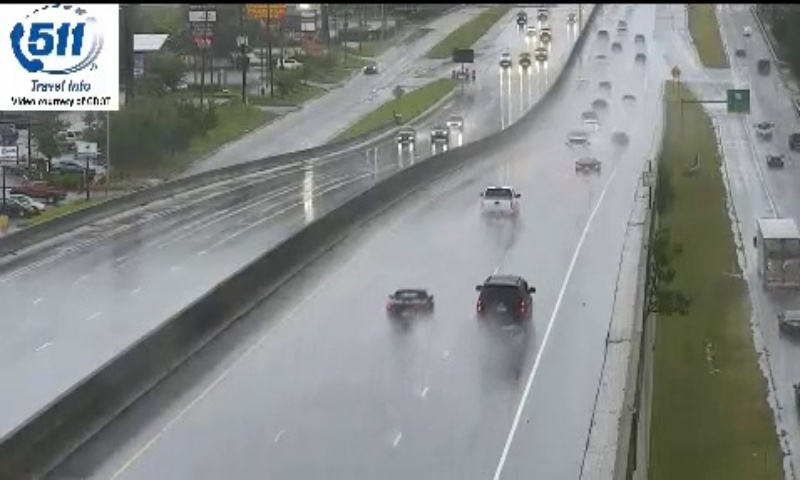car: (476, 275, 533, 326), (388, 289, 431, 323), (480, 185, 516, 216)
